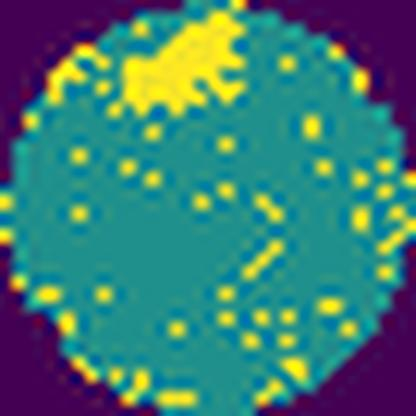Loc: (125, 14, 243, 120)
